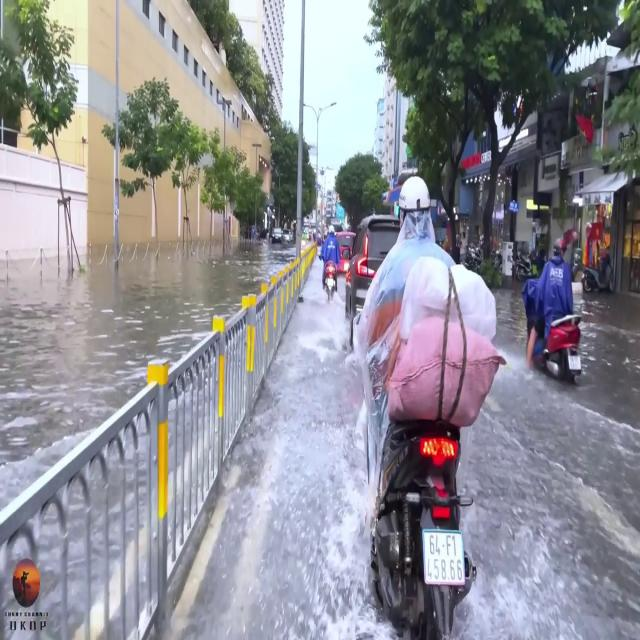bien_vang: (425, 532, 467, 586)
